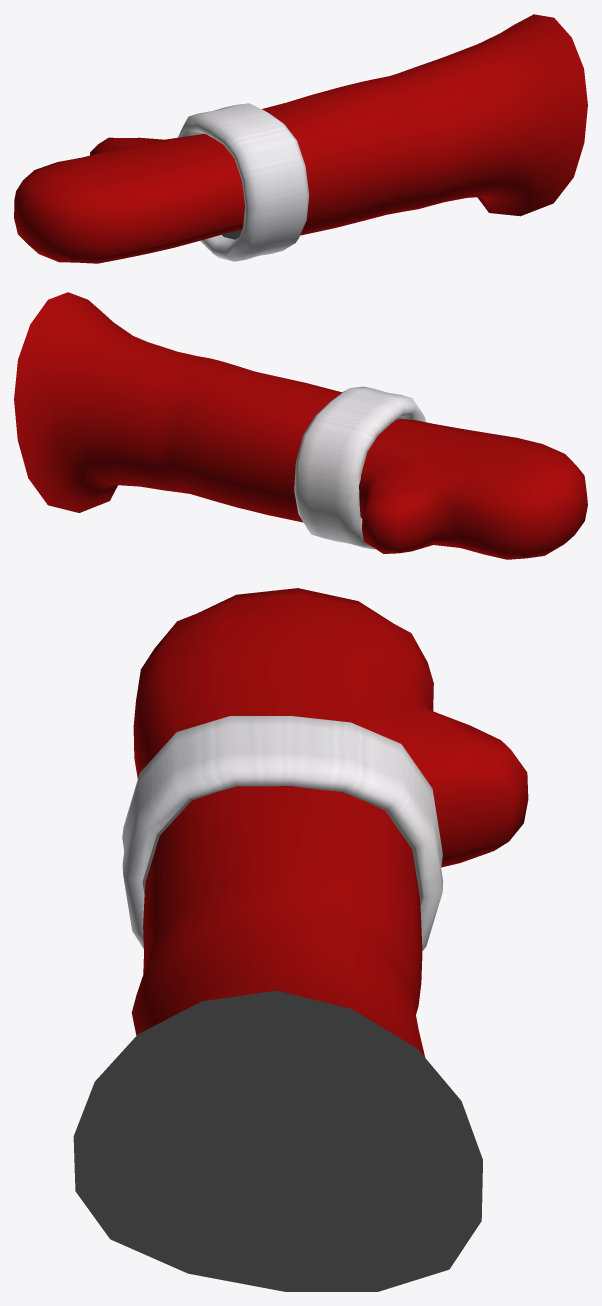
Rendered from leftArmSanta.obj.
The picture shows the model from 3 angles, top to bottom: view 1: azimuth 30°, elevation 25°; view 2: azimuth 150°, elevation 25°; view 3: azimuth 270°, elevation 25°; orthographic projection. The views are drawn at different scales.
Parts seen in each view (by area): view 1: santa1:initialShadingGroupsantapolySurface10; view 2: santa1:initialShadingGroupsantapolySurface10; view 3: santa1:initialShadingGroupsantapolySurface10.
Boxes of the visible parts, <box> form: santa1:initialShadingGroupsantapolySurface10: <box>14,14,587,263</box>; santa1:initialShadingGroupsantapolySurface10: <box>14,292,587,559</box>; santa1:initialShadingGroupsantapolySurface10: <box>73,588,528,1291</box>.
Bounding box in the file's own units: 4.54 × 1.49 × 1.7.
Materials: 3 (2 with a texture image).
